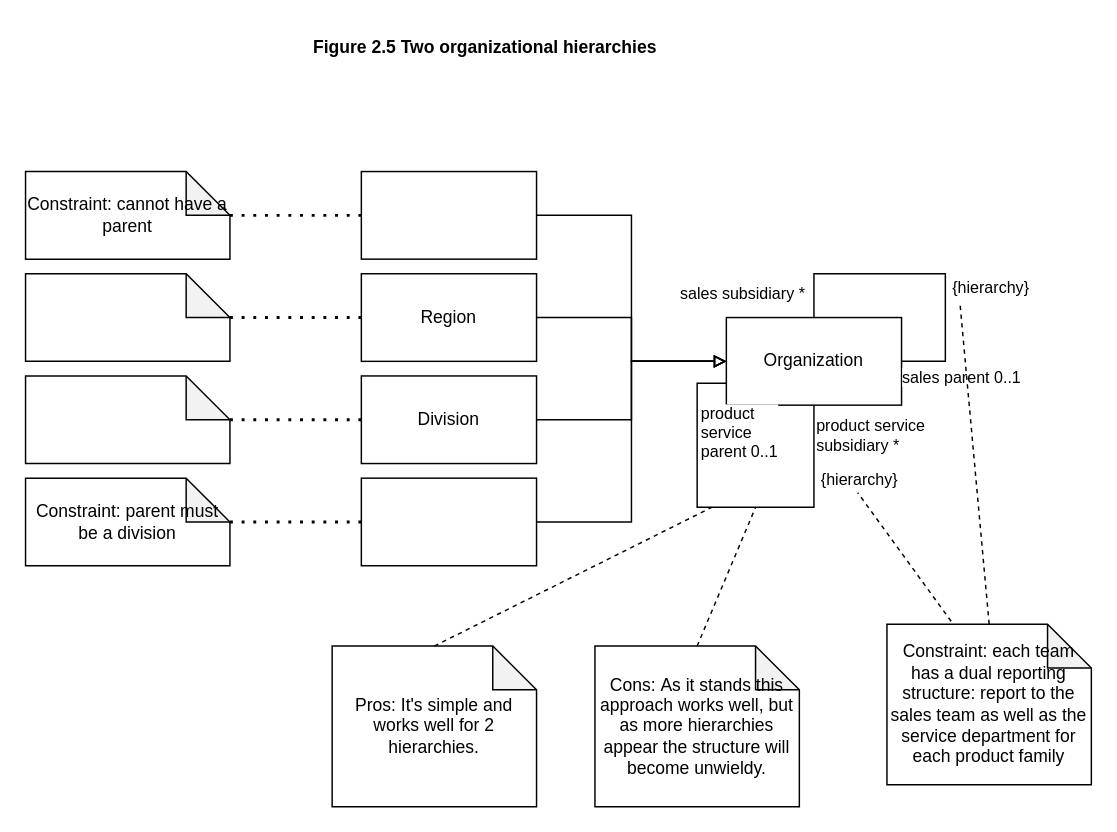
Image size: 1117x832. Some labels were removed from this diagram. Here are the shapes that lost their labels. From the top down, the centre of each, then its label:
At (448,214): "Operating Unit".
At (127,316): "Constraint: parent must be an operating unit".
At (127,419): "Constraint: parent must be a region".
At (448,521): "Sales Office".
